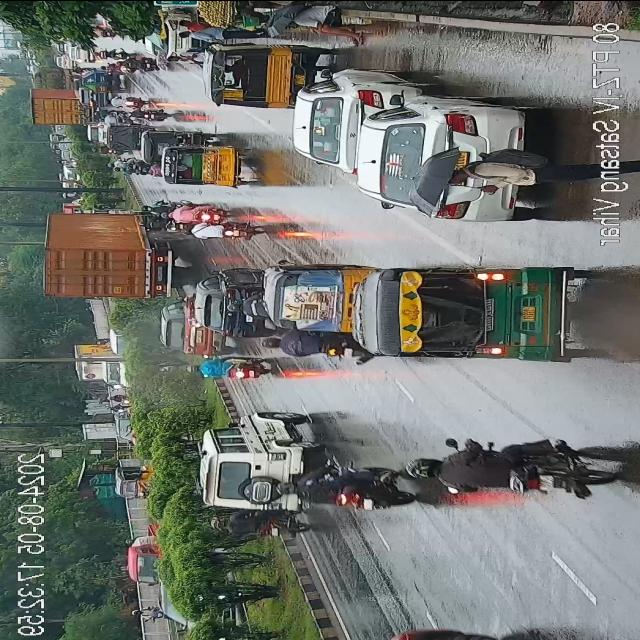2-wheelers: (417, 446, 618, 494), (286, 467, 414, 511), (268, 334, 382, 366), (222, 512, 310, 538), (188, 355, 268, 383), (186, 220, 260, 240), (166, 206, 223, 223)
auto: (364, 264, 574, 368), (214, 43, 289, 112), (270, 270, 354, 330), (166, 142, 246, 184), (138, 130, 200, 164), (112, 464, 154, 500)
car: (362, 106, 528, 222), (298, 71, 422, 165), (202, 416, 300, 511), (196, 273, 268, 341), (161, 560, 207, 630), (162, 306, 220, 354), (385, 633, 495, 640)
pedestrian: (445, 154, 640, 177), (283, 6, 367, 38), (177, 25, 273, 43)
truck: (39, 214, 174, 295), (34, 88, 94, 125)
